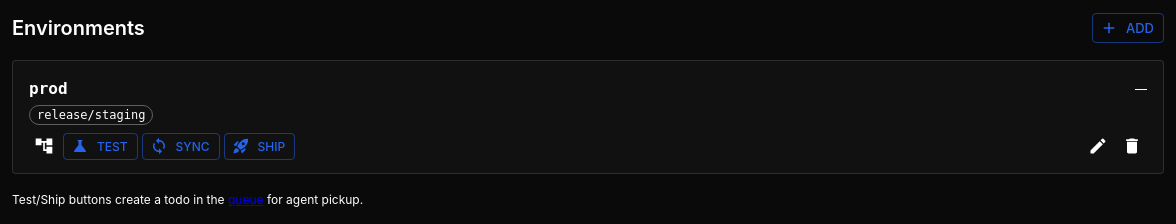
Test: Environment delete inline confirm (TK-1567) › first click on delete IconButton shows inline confirm without mutating
Step 1. Click the button with test id "env-delete-button" → coordinates (1132, 146), box [1117,131,1147,161]
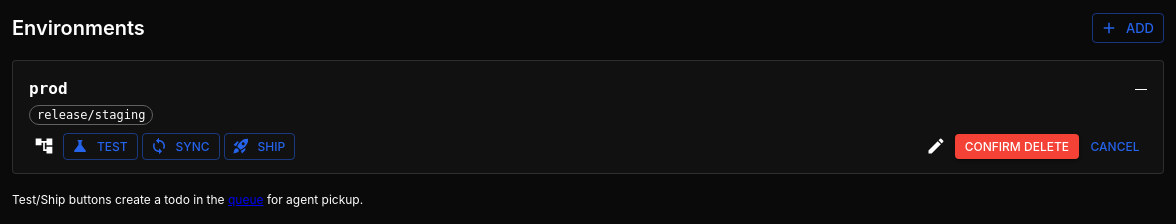
Result: the button with test id "env-confirm-delete" is shown at [955,134,1079,158]
Result: the button with test id "env-cancel-delete" is shown at [1083,134,1147,158]
Result: the button with test id "env-delete-button" is gone
